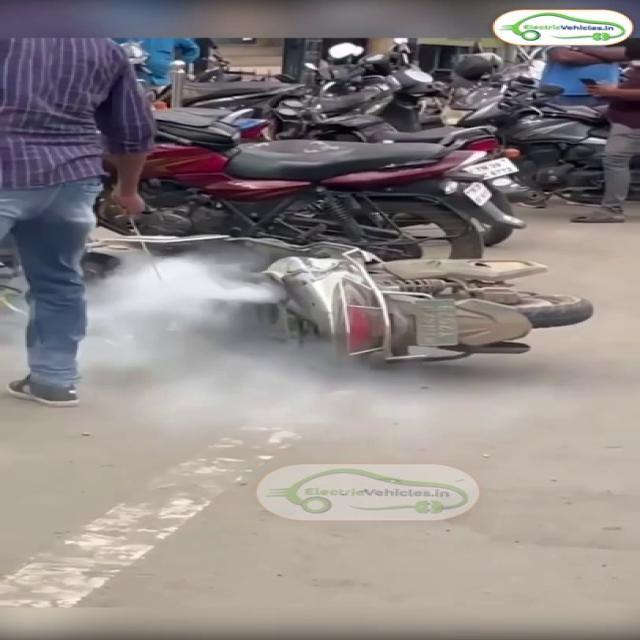Smoke: (56, 235, 381, 444)
